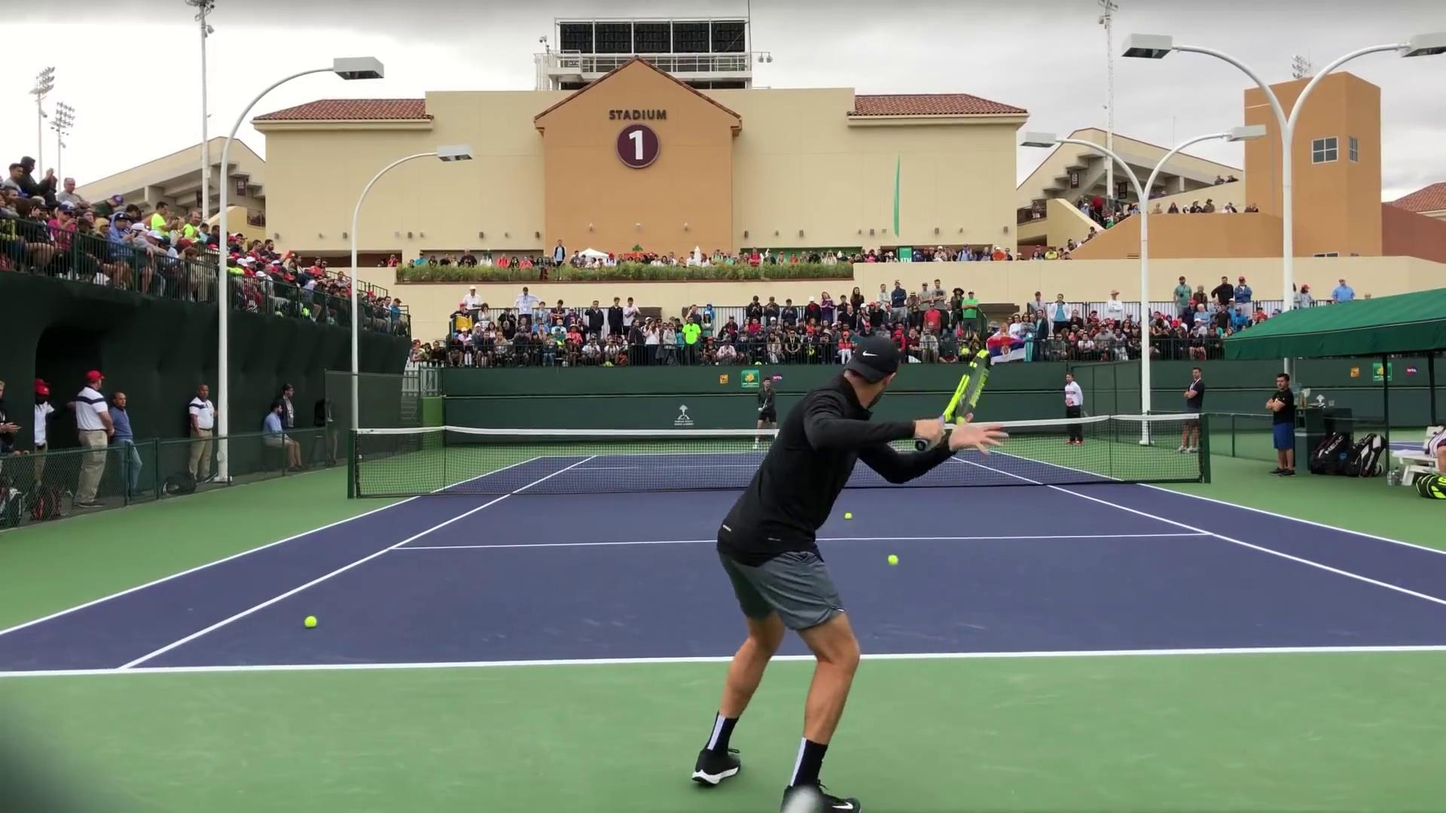ball: (304, 616, 319, 630), (887, 553, 900, 566), (843, 512, 852, 520)
